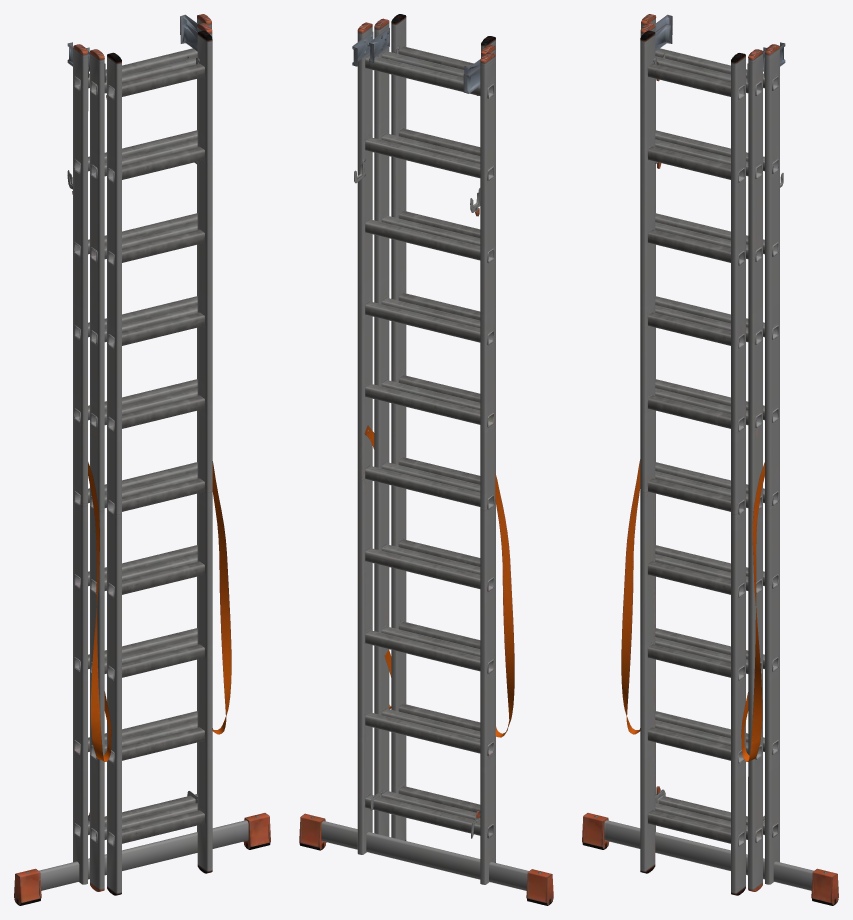
Rendered from ladder_sectioned_01.glb.
3 renders of one model, left to right at view 1: azimuth 30°, elevation 25°; view 2: azimuth 150°, elevation 25°; view 3: azimuth 330°, elevation 25°, orthographic.
Parts seen in each view (by area): view 1: ladder_section_01; view 2: ladder_section_01; view 3: ladder_section_01.
Part boxes in pixels (x1,y1,x2,y2): ladder_section_01: (14,14,270,905); ladder_section_01: (299,14,553,905); ladder_section_01: (582,14,838,905).
Bounding box in the file's own units: 0.6616 × 2.13 × 0.1777.
1 material, 1 textured.
